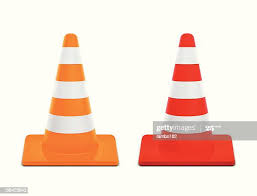cones: (19, 33, 119, 167), (138, 34, 235, 166)
